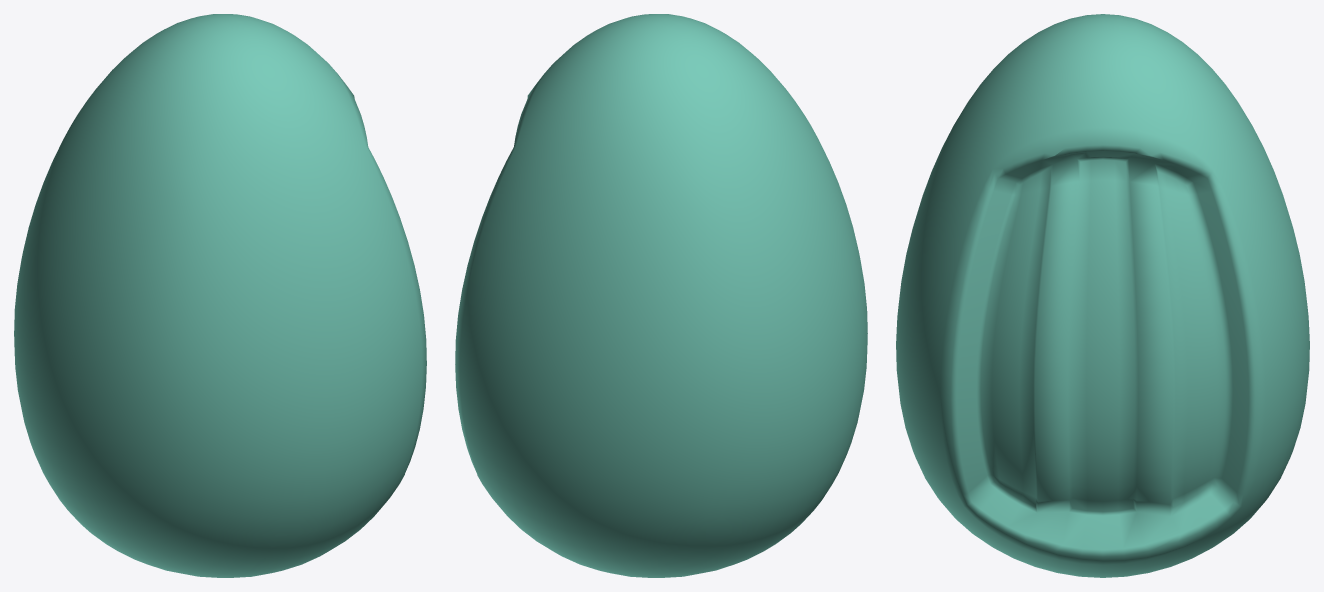
Rendered from Deep Egg 5.fbx.
The picture shows the model from 3 angles, left to right: view 1: azimuth 30°, elevation 25°; view 2: azimuth 150°, elevation 25°; view 3: azimuth 270°, elevation 25°; orthographic projection.
Parts seen in each view (by area): view 1: Slime Egg.006; view 2: Slime Egg.006; view 3: Slime Egg.006.
Boxes of the visible parts, left/top/right/bottom form: Slime Egg.006: left=14, top=14, right=426, bottom=577; Slime Egg.006: left=455, top=14, right=867, bottom=577; Slime Egg.006: left=896, top=14, right=1309, bottom=577.
Bounding box in the file's own units: 2.3 × 3.62 × 2.56.
